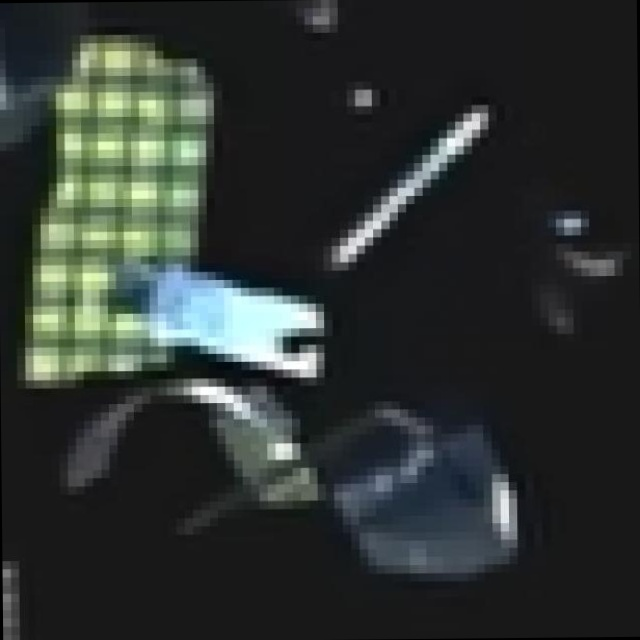large_debris: (34, 24, 242, 385), (50, 389, 331, 572), (318, 62, 521, 264), (334, 389, 523, 588), (103, 279, 363, 365), (526, 178, 633, 329), (279, 0, 377, 40), (0, 35, 21, 166), (2, 553, 11, 640)
